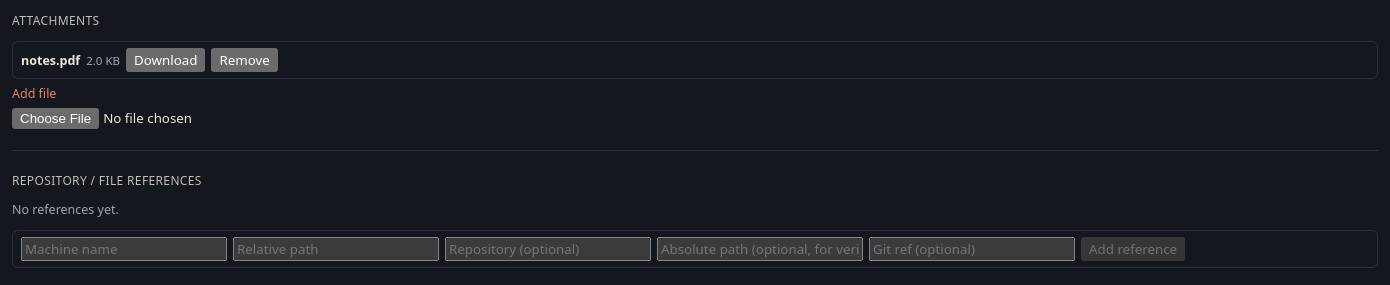
Scenario: FilesPanel › requires a confirmation click before deleting an attachment
expect the text "notes.pdf" is shown: met, box [21,52,80,68]
Click the button with aria-label "remove notes.pdf" at x=245, y=60, box [212,48,278,72]
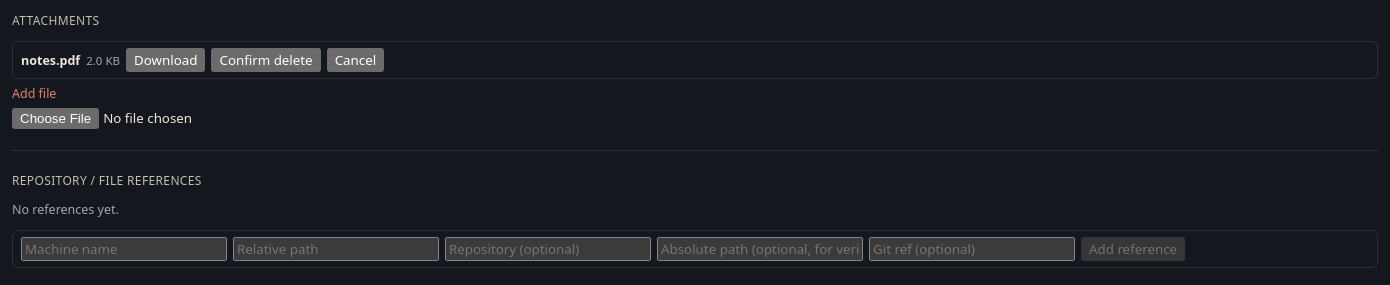
Click the button "Confirm delete" at x=266, y=60, box [212,48,321,72]
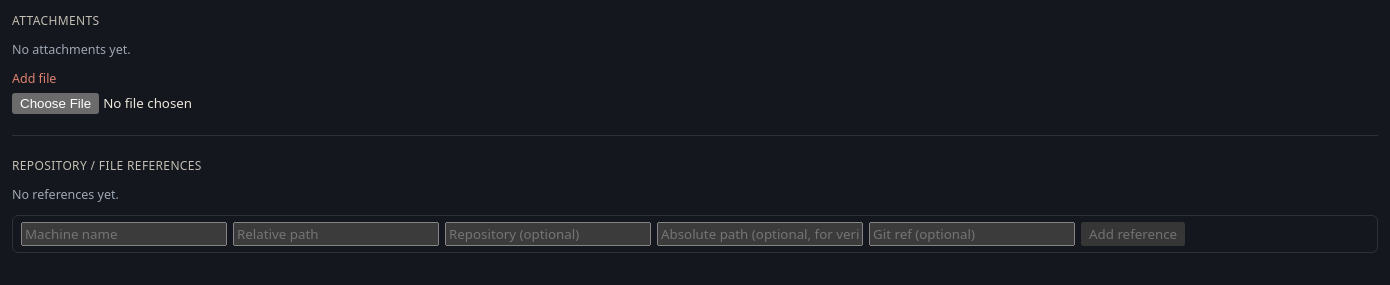
expect the text "No attachments yet." is shown: met, box [12,41,131,58]
